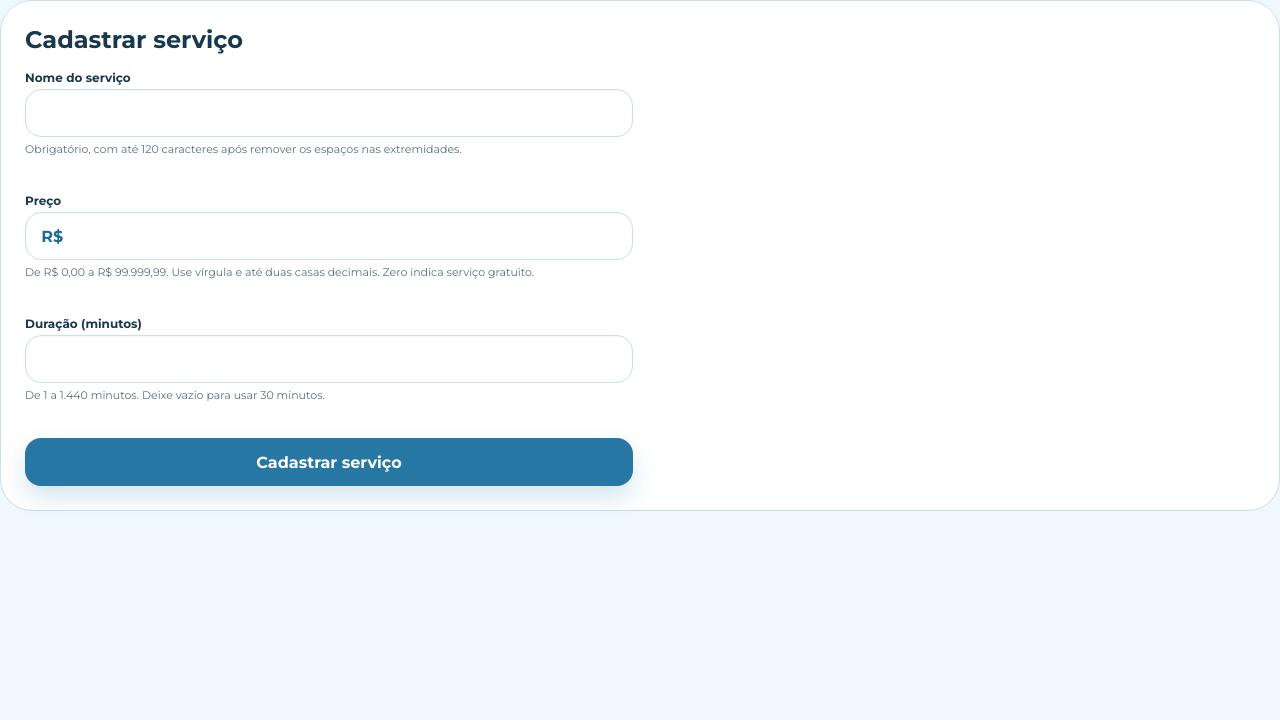
Test case: não anuncia sucesso nem repete resultado ambíguo null
This screenshot has width=1280, height=720.
Type "Corte" into the field labelled "Nome do serviço" at (329, 114), box [25,90,633,138]
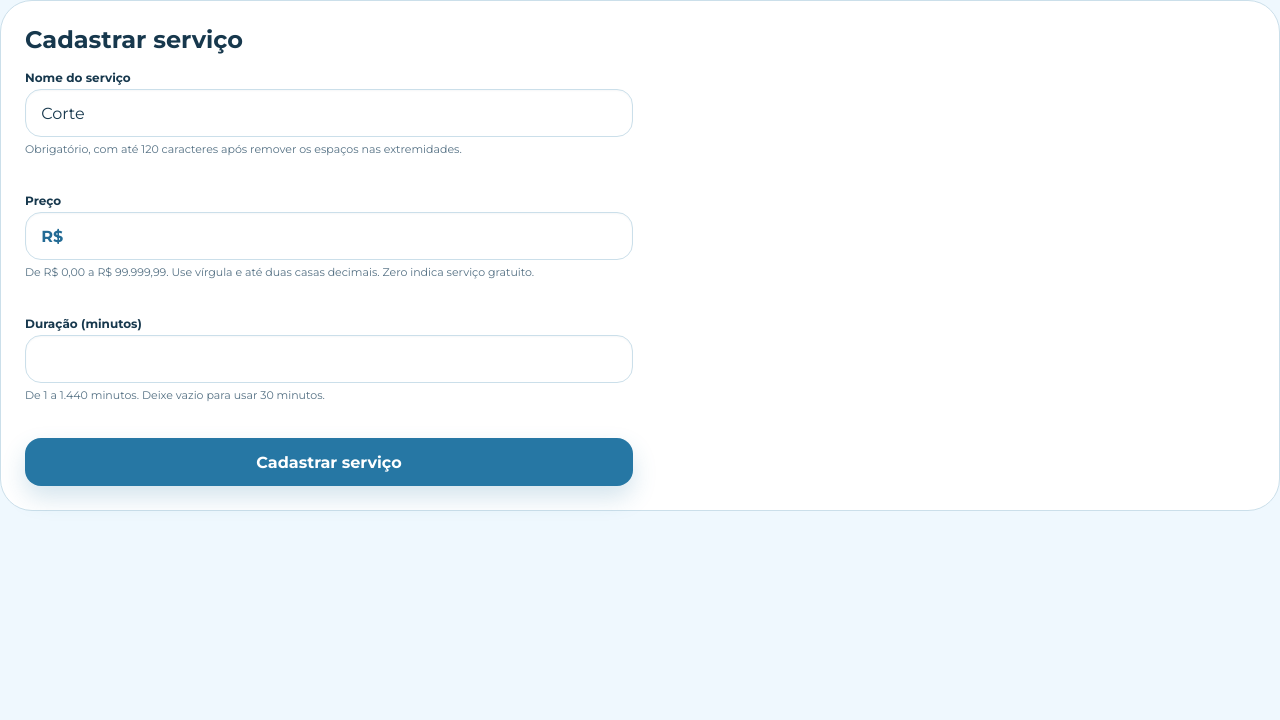
Type "0,01" into the field labelled "Preço" at (348, 236), box [63,213,632,259]
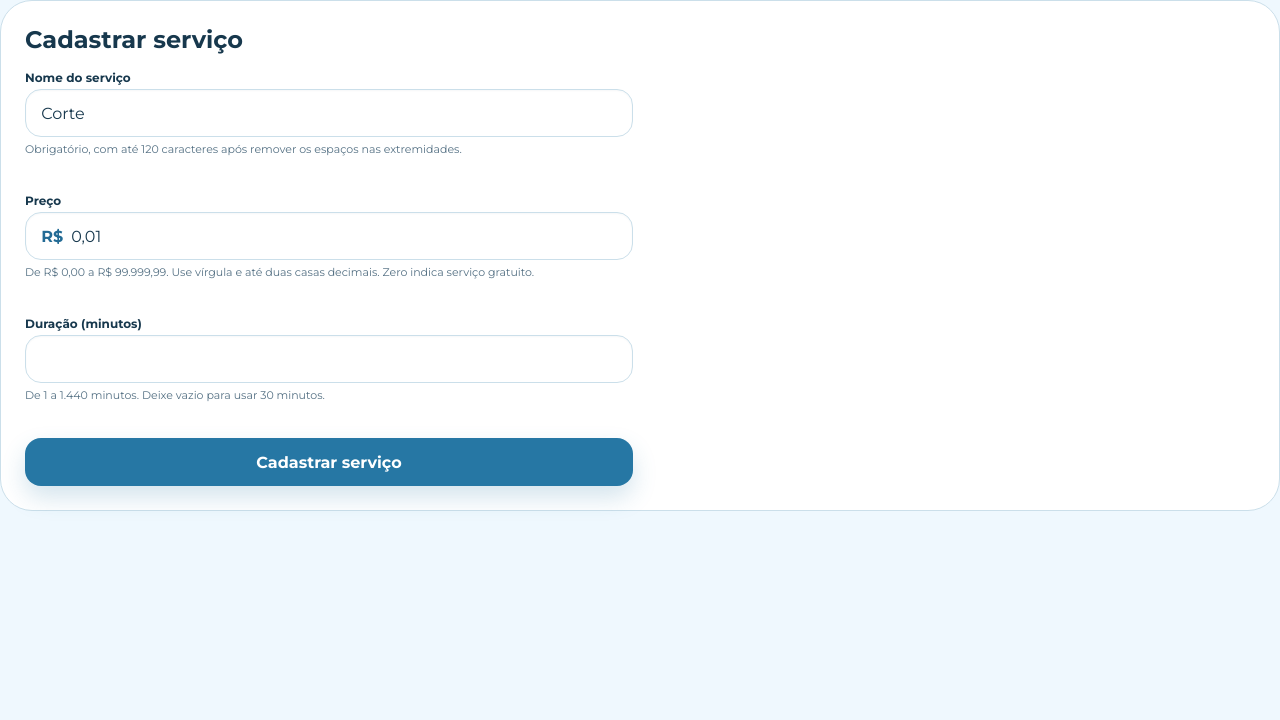
Click the button "Cadastrar serviço" at (329, 462), box [25,438,633,486]
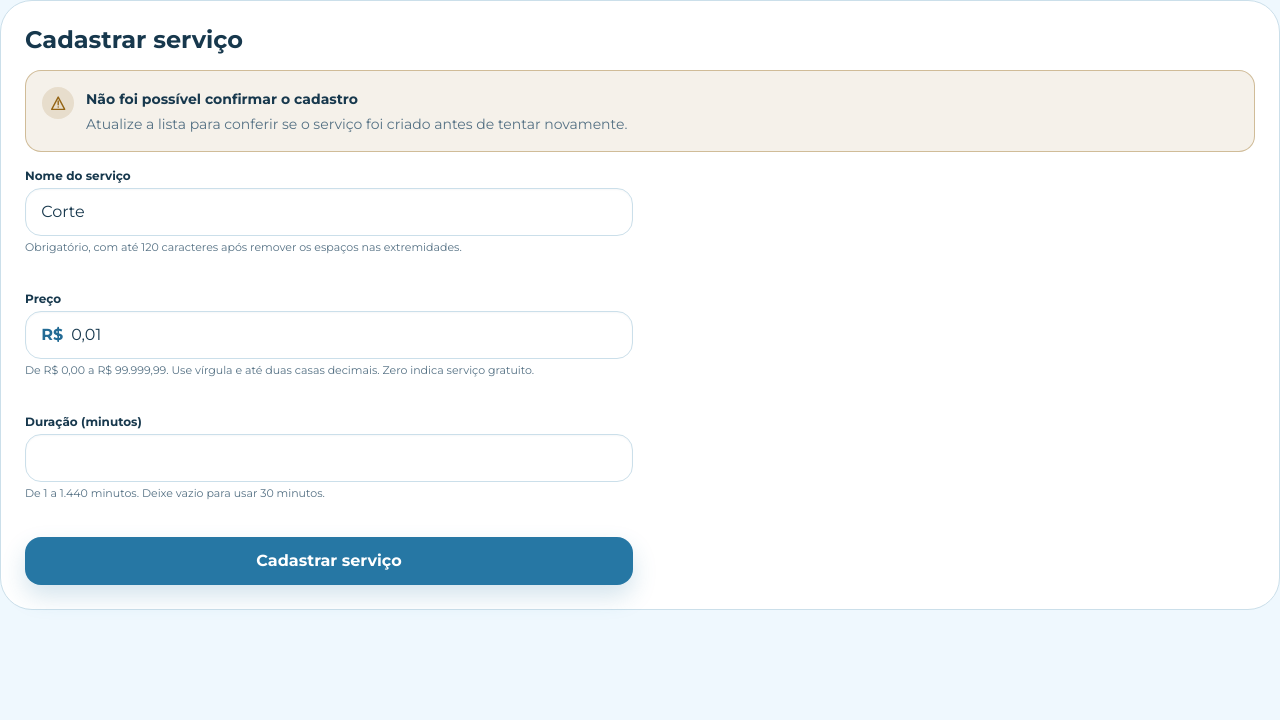
Expected: the text "Não foi possível confirmar o cadastro" is shown, [86,90,358,108]
